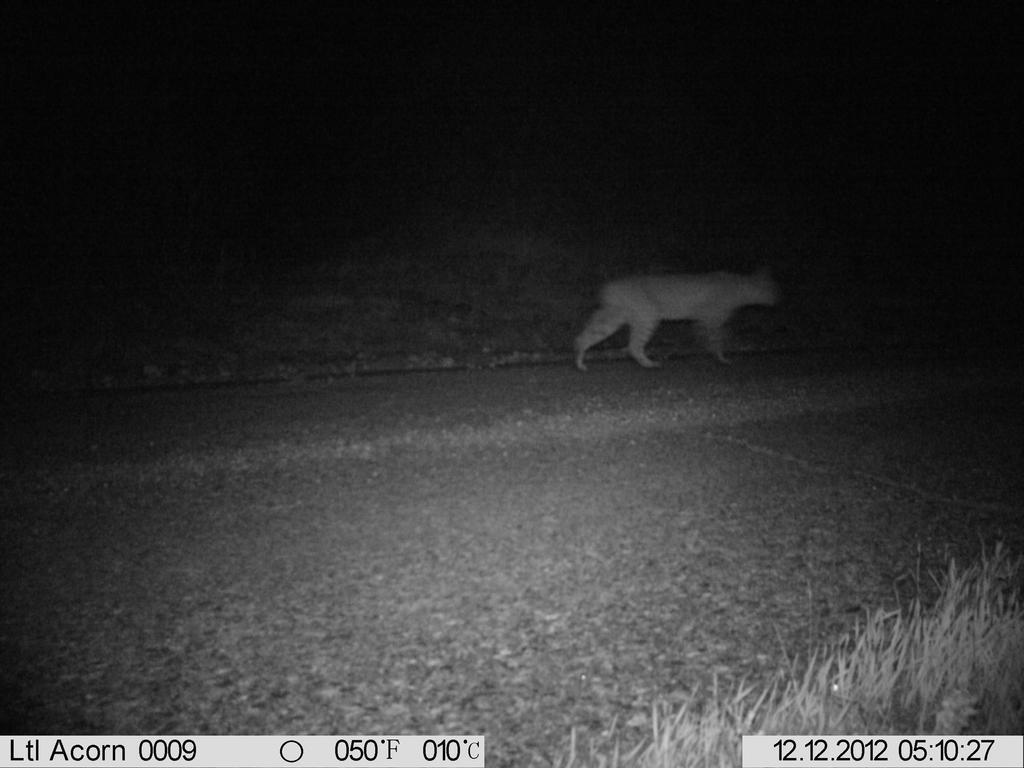bobcat: (556, 253, 789, 388)
